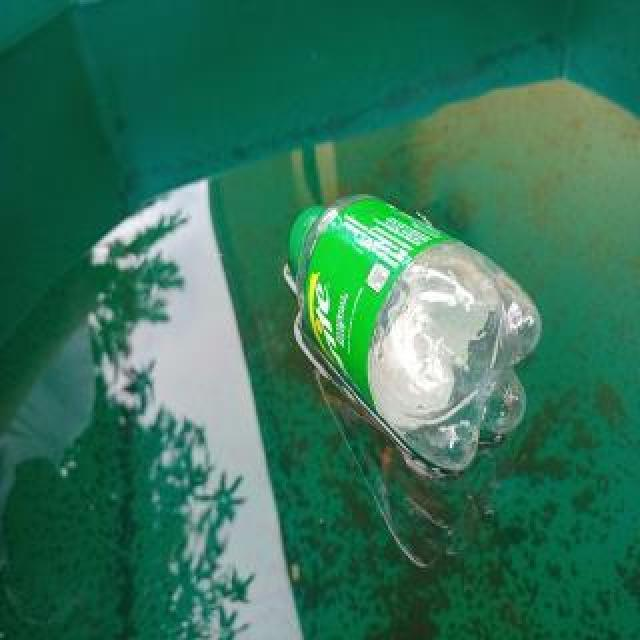Bottle: (281, 192, 546, 474)
